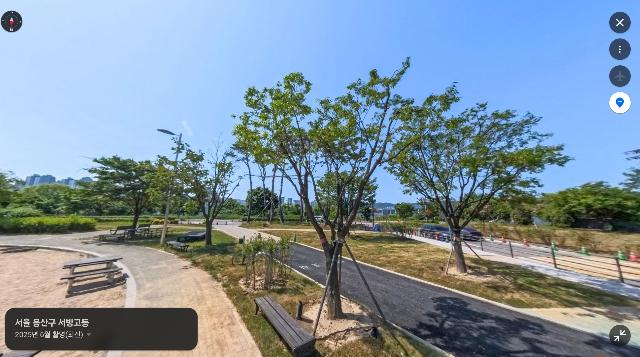other: (230, 56, 462, 321), (376, 100, 574, 276), (154, 136, 245, 248), (82, 152, 185, 235), (245, 186, 278, 225), (395, 203, 418, 223)
